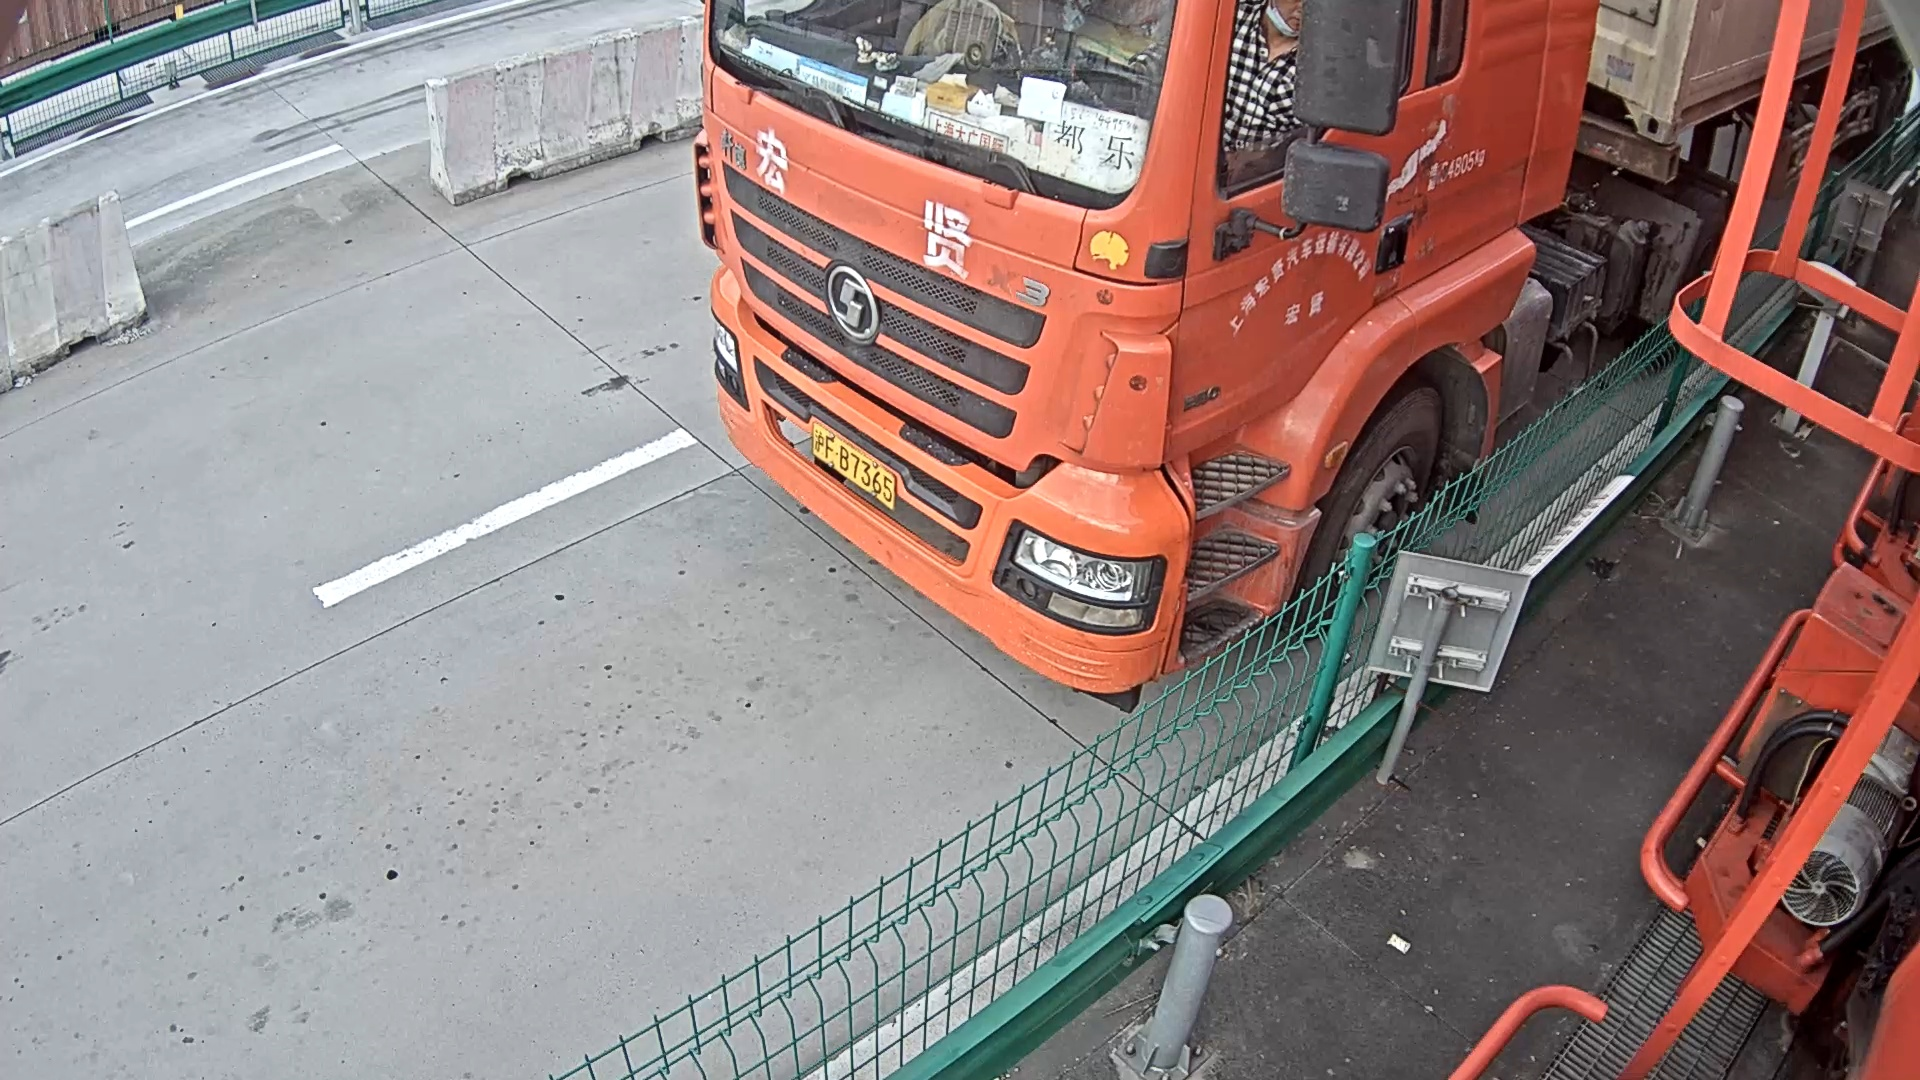head: (700, 1, 1603, 704)
plate: (804, 418, 900, 508)
